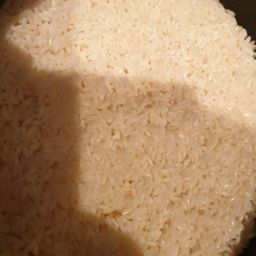Rice: (46, 8, 256, 256), (11, 27, 111, 256), (79, 90, 219, 182)
